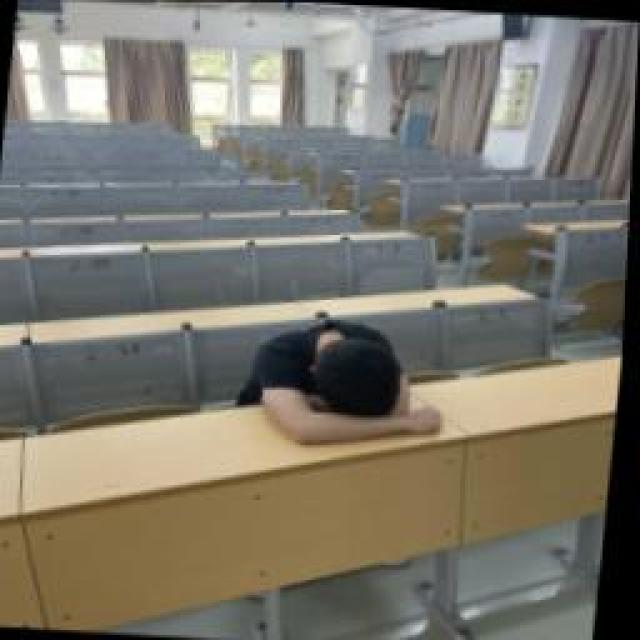sleep: (238, 315, 452, 447)
